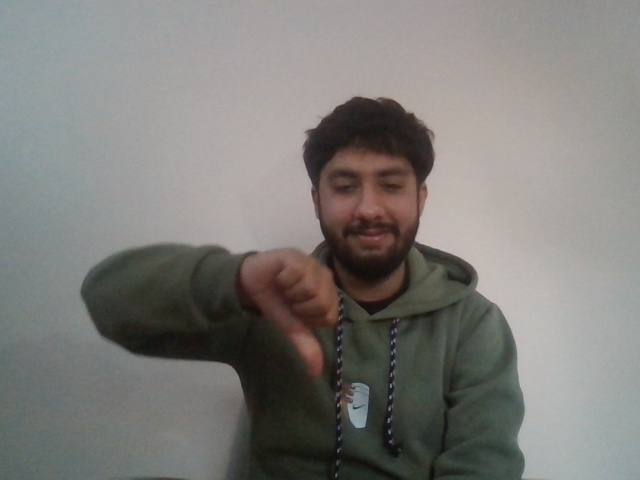No: (247, 246, 357, 383)
